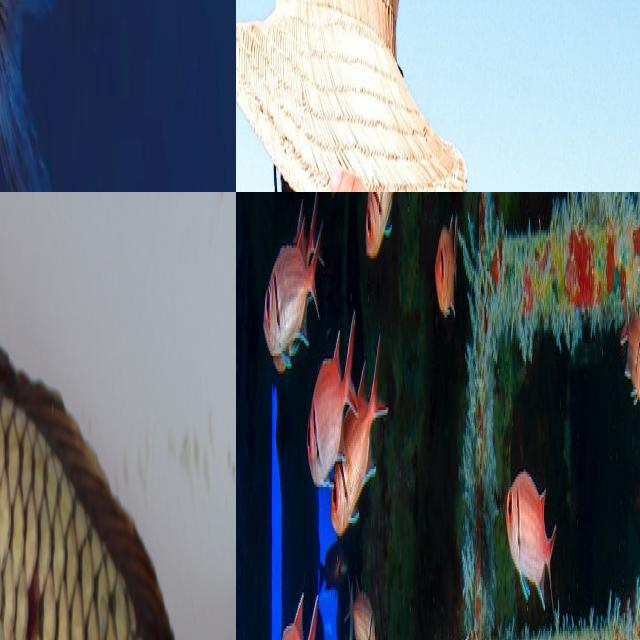fish: (0, 192, 236, 640), (236, 0, 616, 192), (432, 349, 640, 640), (0, 0, 236, 192)
